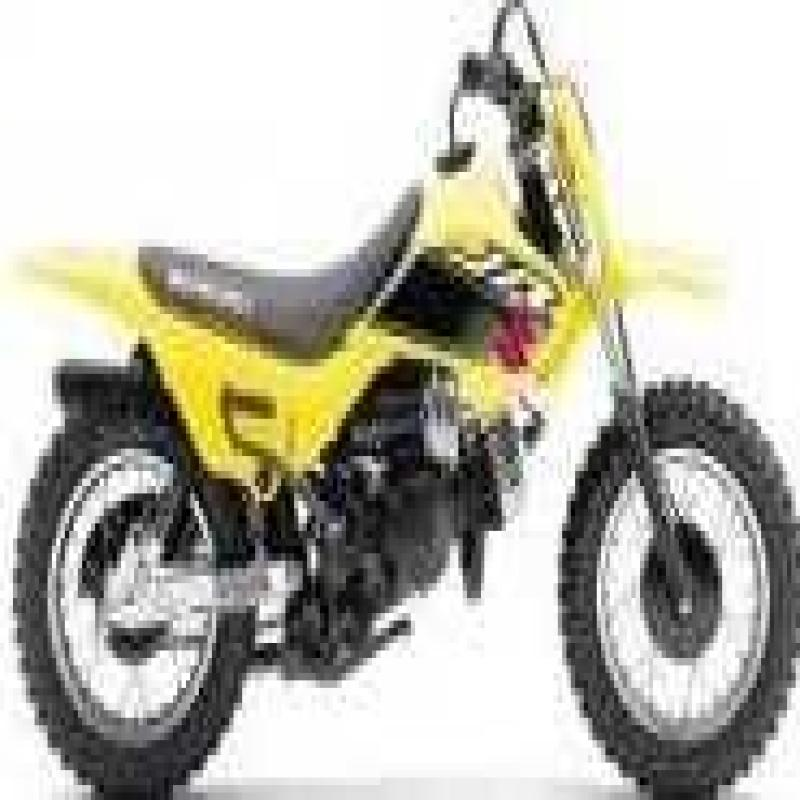bike: (9, 20, 800, 800)
